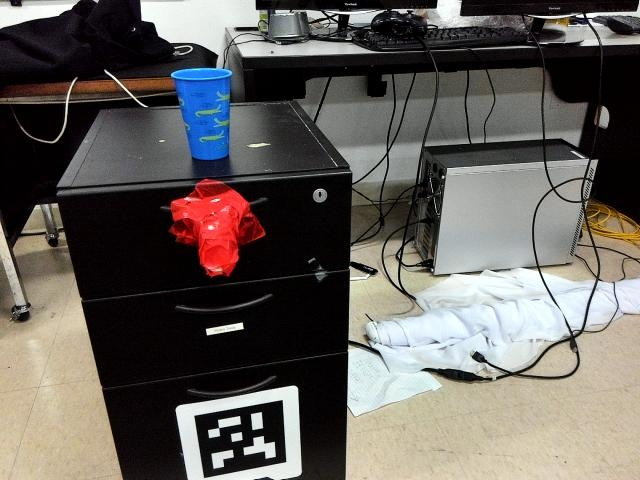water_cup: (171, 65, 235, 164)
